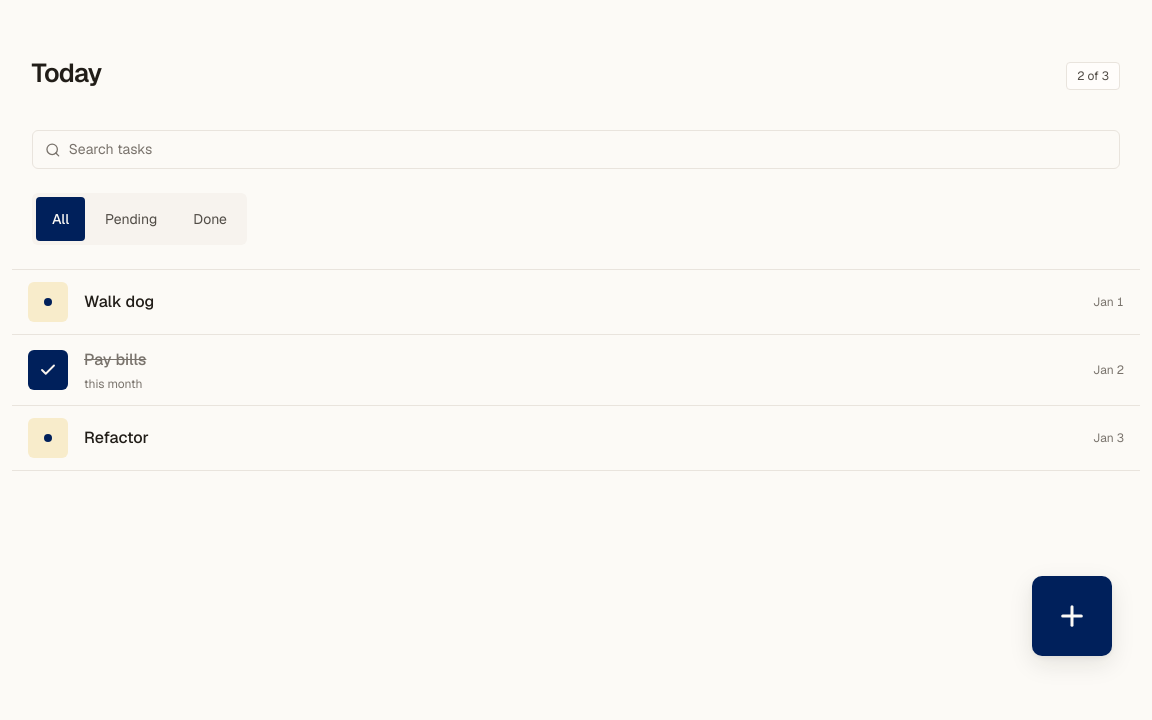
Test: HomePage › search matches title and description case-insensitively
Type "MONTH" into the search field with placeholder "Search tasks" at point(588, 150), box [69, 139, 1107, 160]
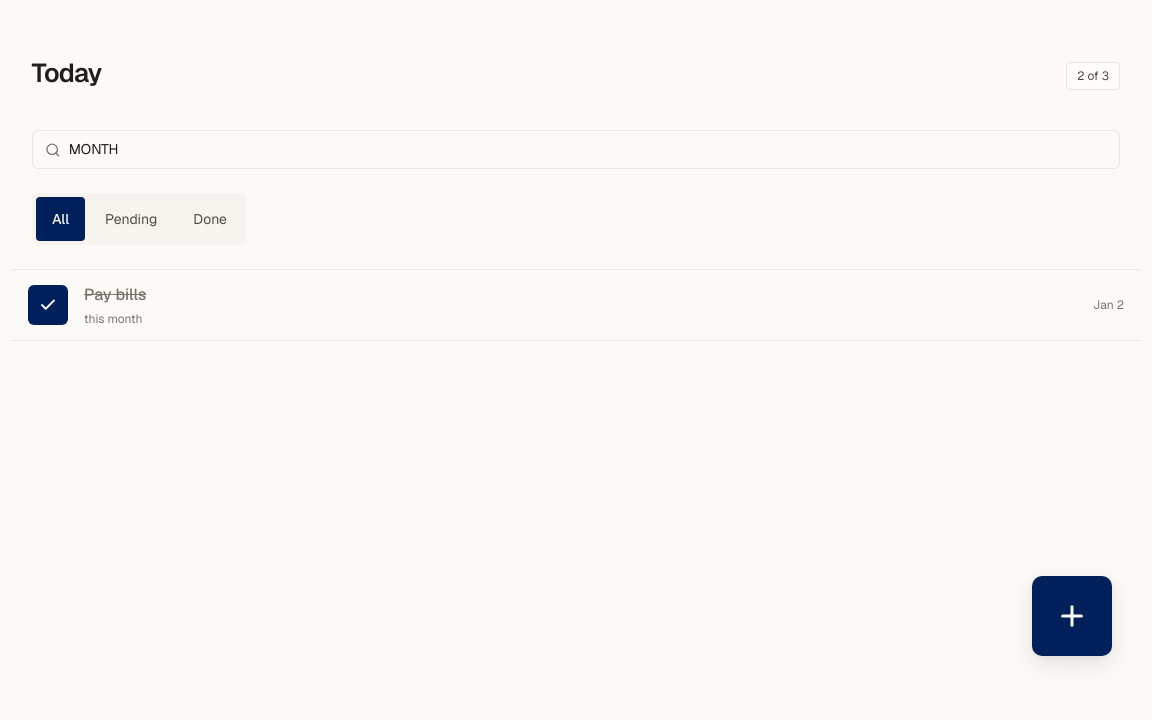
Expected: the text "Pay bills" is shown, [84, 284, 146, 305]
Expected: the link "Walk dog" is gone
